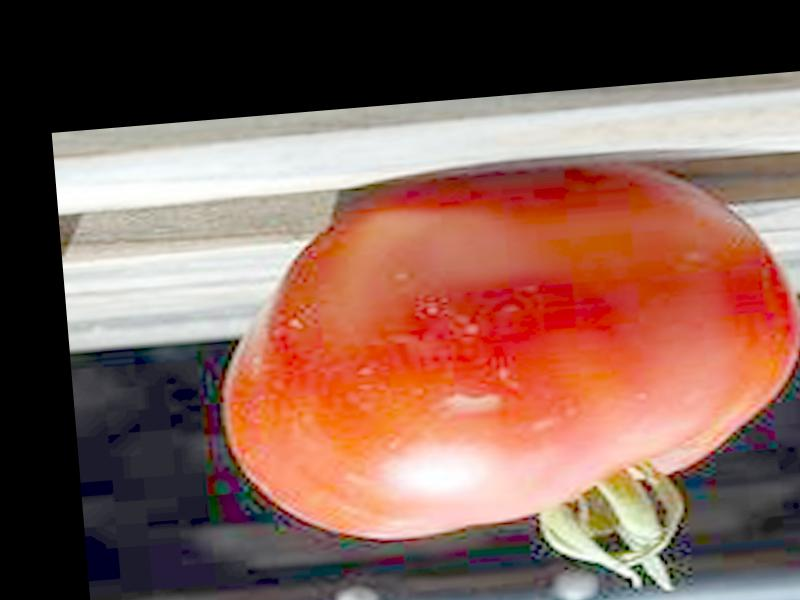Tomato: (208, 154, 800, 600)
